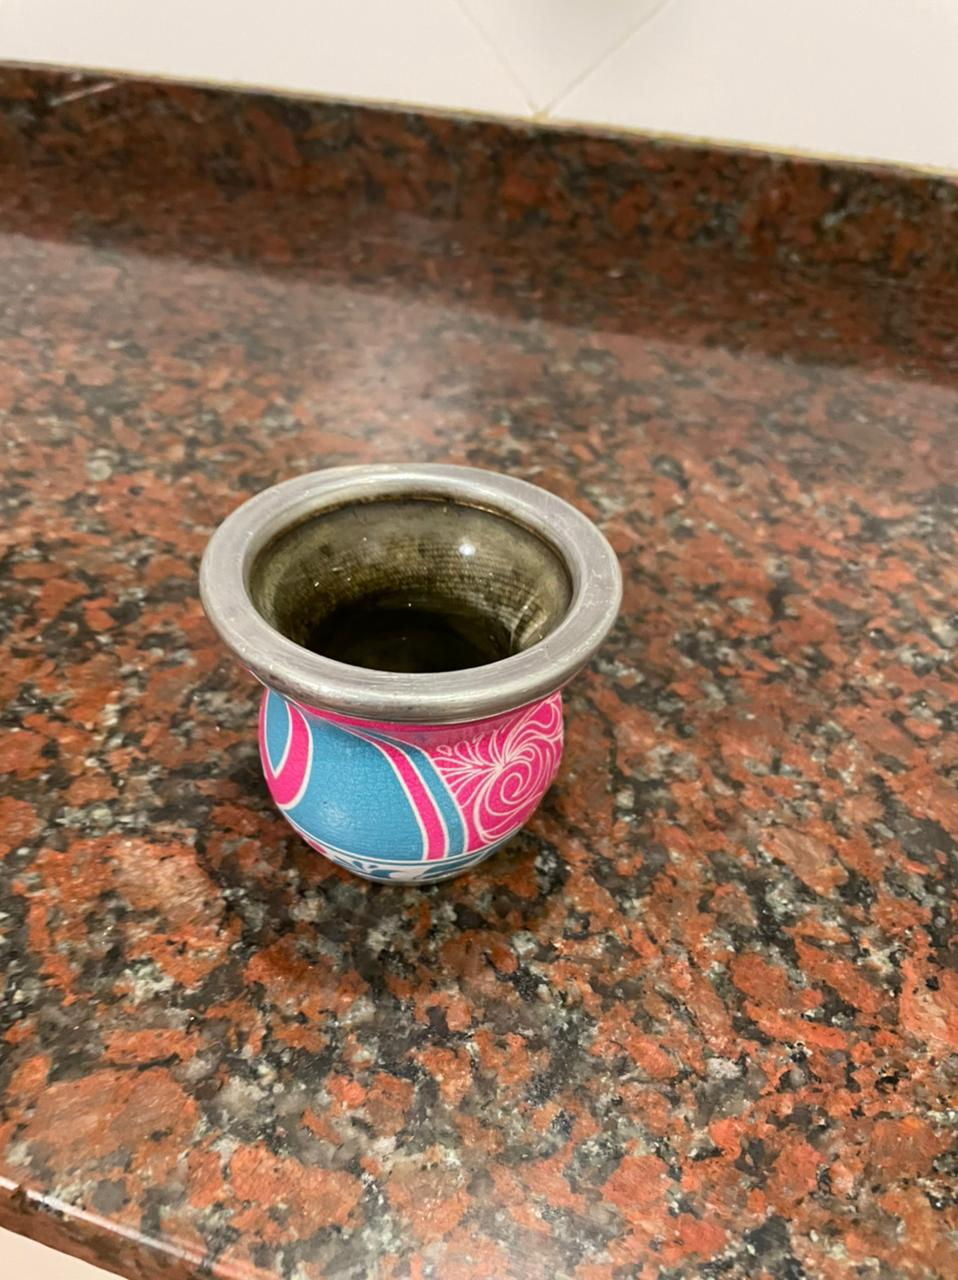mate: (192, 450, 628, 887)
plastico: (194, 452, 630, 889)
